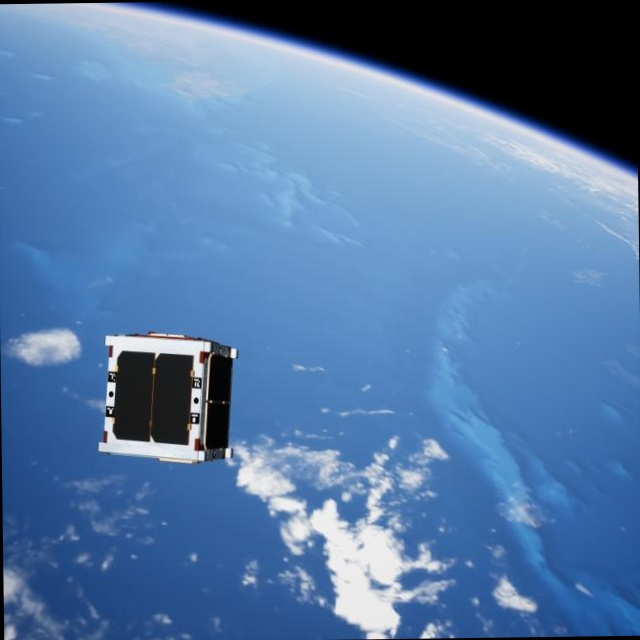satellite: (91, 325, 241, 467)
